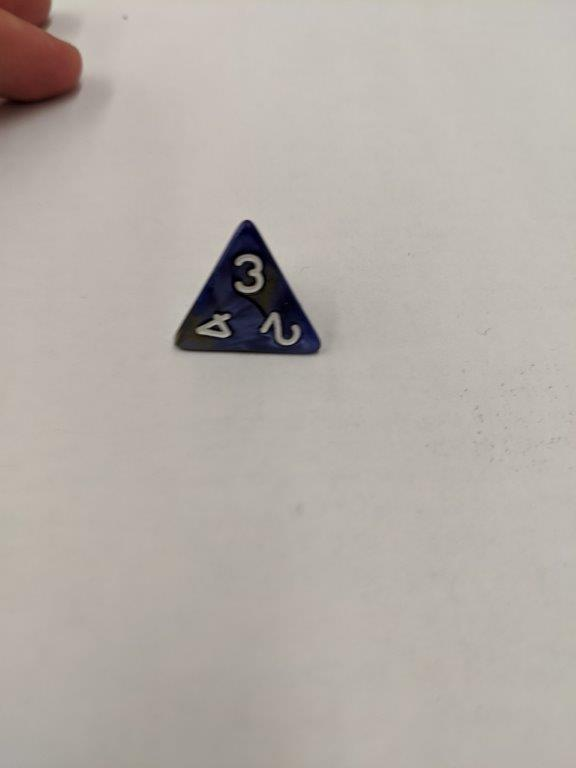d4-3: (170, 214, 325, 360)
